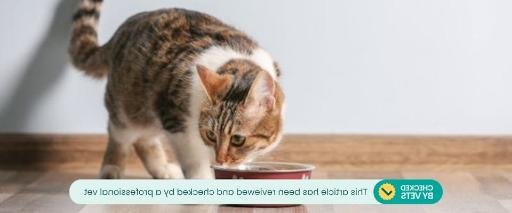cat_eating: (69, 0, 315, 179)
